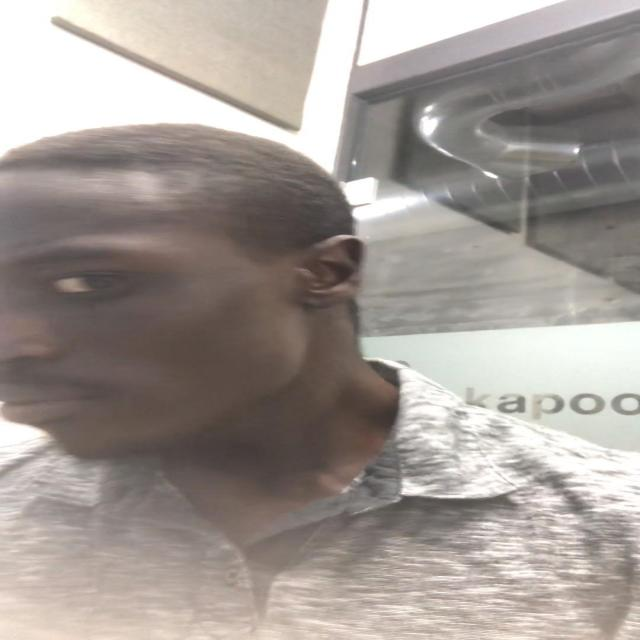face: (1, 176, 296, 466)
